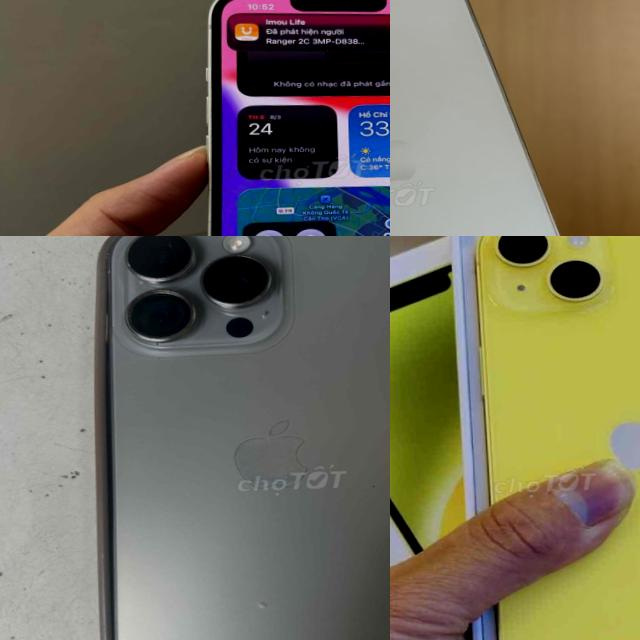gen_12_13: (390, 0, 595, 236), (187, 0, 390, 236)
gen_14: (456, 236, 640, 640)
gen_15: (83, 236, 390, 640)
